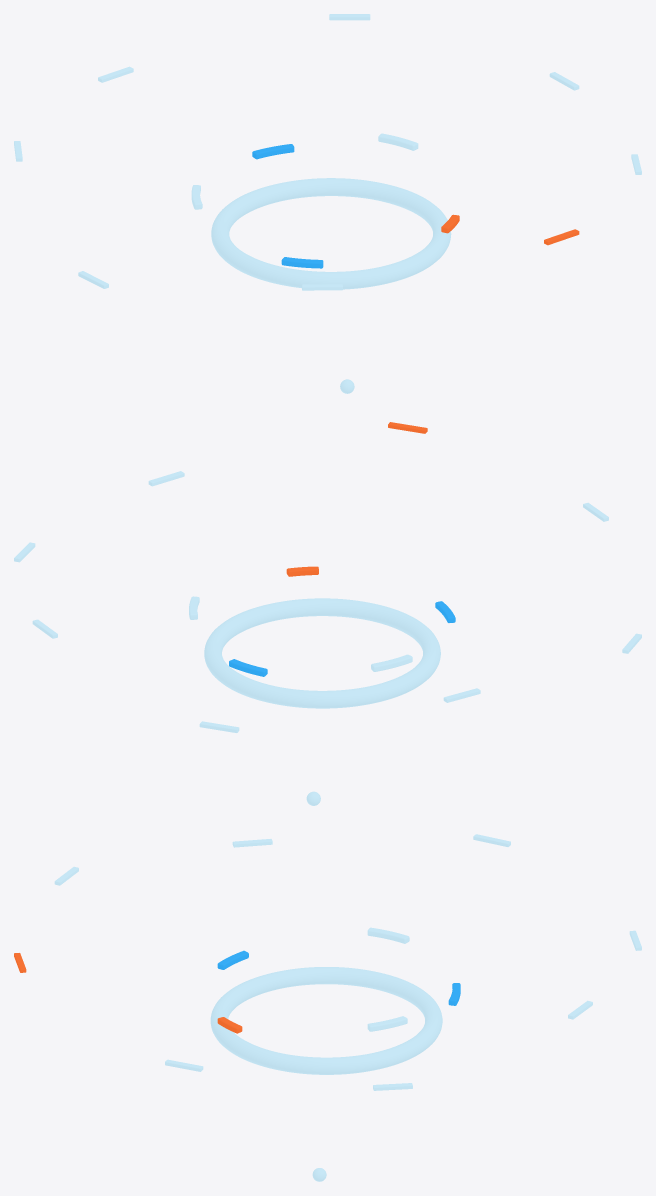
The model's file is ev_core_r11b_energy.glb.
The picture shows the model from 3 angles, top to bottom: view 1: azimuth 30°, elevation 25°; view 2: azimuth 150°, elevation 25°; view 3: azimuth 270°, elevation 25°; orthographic projection. The views are drawn at different scales.
Parts seen in each view (by area): view 1: ConfinementField; view 2: ConfinementField; view 3: ConfinementField.
Part boxes in pixels (x1,y1,x2,y2): ConfinementField: (211,178,451,289); ConfinementField: (204,598,440,708); ConfinementField: (210,967,442,1074).
Size of the model in its own units: 5.31 by 2.35 by 5.38.
